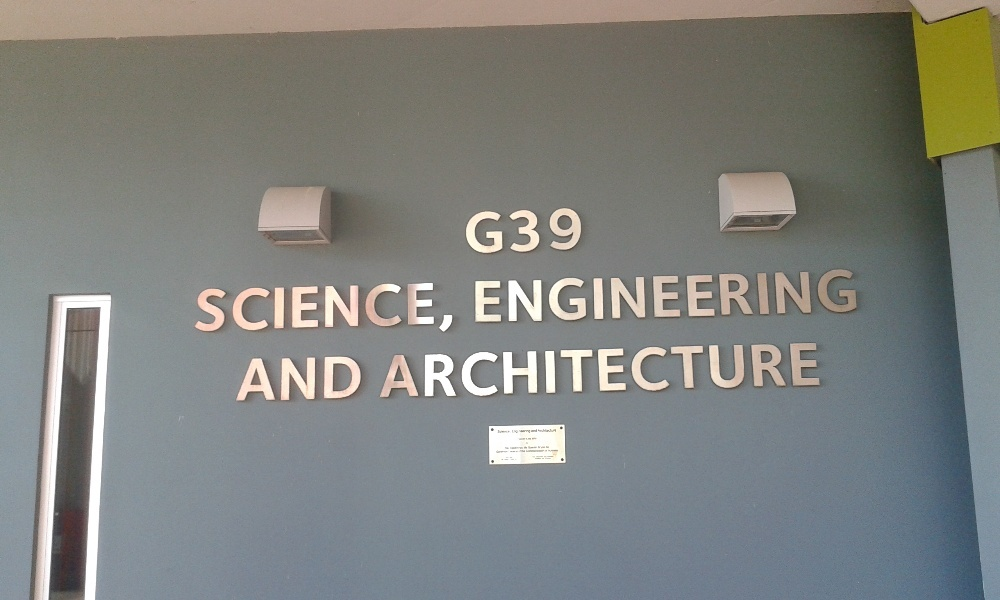text: (401, 342, 416, 401), (417, 342, 432, 401), (433, 342, 448, 401), (449, 342, 464, 401), (465, 342, 480, 401), (481, 342, 496, 401), (497, 342, 512, 401), (513, 342, 528, 401), (529, 342, 544, 401), (545, 342, 560, 401), (561, 342, 576, 401), (577, 342, 592, 401), (593, 342, 608, 401), (609, 342, 624, 401), (625, 342, 640, 401), (641, 342, 656, 401), (657, 342, 672, 401), (673, 342, 688, 401), (689, 342, 704, 401), (705, 342, 720, 401), (721, 342, 736, 401), (737, 342, 752, 401), (753, 342, 768, 401), (769, 342, 784, 401), (785, 342, 800, 401), (801, 342, 816, 401), (481, 268, 496, 325), (497, 268, 512, 325), (513, 268, 528, 325), (529, 268, 544, 325), (545, 268, 560, 325), (561, 268, 576, 325), (577, 268, 592, 325), (593, 268, 608, 325), (609, 268, 624, 325), (625, 268, 640, 325), (641, 268, 656, 325), (657, 268, 672, 325), (673, 268, 688, 325), (689, 268, 704, 325), (705, 268, 720, 325), (721, 268, 736, 325), (737, 268, 752, 325), (753, 268, 768, 325), (769, 268, 784, 325), (785, 268, 800, 325), (801, 268, 816, 325), (817, 268, 832, 325), (833, 268, 848, 325), (209, 281, 224, 333), (225, 281, 240, 333), (241, 281, 256, 333), (257, 281, 272, 333), (273, 281, 288, 333), (289, 281, 304, 333), (305, 281, 320, 333), (321, 281, 336, 333), (337, 281, 352, 333), (353, 281, 368, 333), (369, 281, 384, 333), (385, 281, 400, 333), (401, 281, 416, 333), (417, 281, 432, 333), (433, 281, 448, 333), (465, 208, 480, 255), (481, 208, 496, 255), (497, 208, 512, 255), (513, 208, 528, 255), (529, 208, 544, 255), (545, 208, 560, 255), (561, 208, 576, 255), (257, 356, 272, 402), (273, 356, 288, 402), (289, 356, 304, 402), (305, 356, 320, 402), (321, 356, 336, 402), (337, 356, 352, 402), (196, 281, 208, 333), (849, 268, 858, 325), (392, 342, 400, 401), (353, 356, 363, 402), (449, 281, 457, 333), (473, 268, 480, 325), (817, 342, 823, 401), (577, 208, 583, 255), (251, 356, 256, 402), (462, 208, 464, 255), (497, 449, 512, 454), (513, 449, 528, 454), (529, 449, 544, 454), (545, 449, 558, 454), (531, 429, 544, 433), (545, 429, 557, 433), (497, 430, 512, 433), (513, 446, 528, 449), (529, 446, 544, 449), (513, 430, 520, 434), (519, 430, 528, 433), (538, 429, 544, 433), (532, 456, 544, 458), (517, 438, 528, 440), (505, 446, 512, 449), (545, 456, 555, 458), (534, 458, 544, 460), (529, 438, 538, 440), (545, 446, 551, 449), (545, 458, 552, 460), (529, 430, 531, 433), (511, 430, 512, 434)
